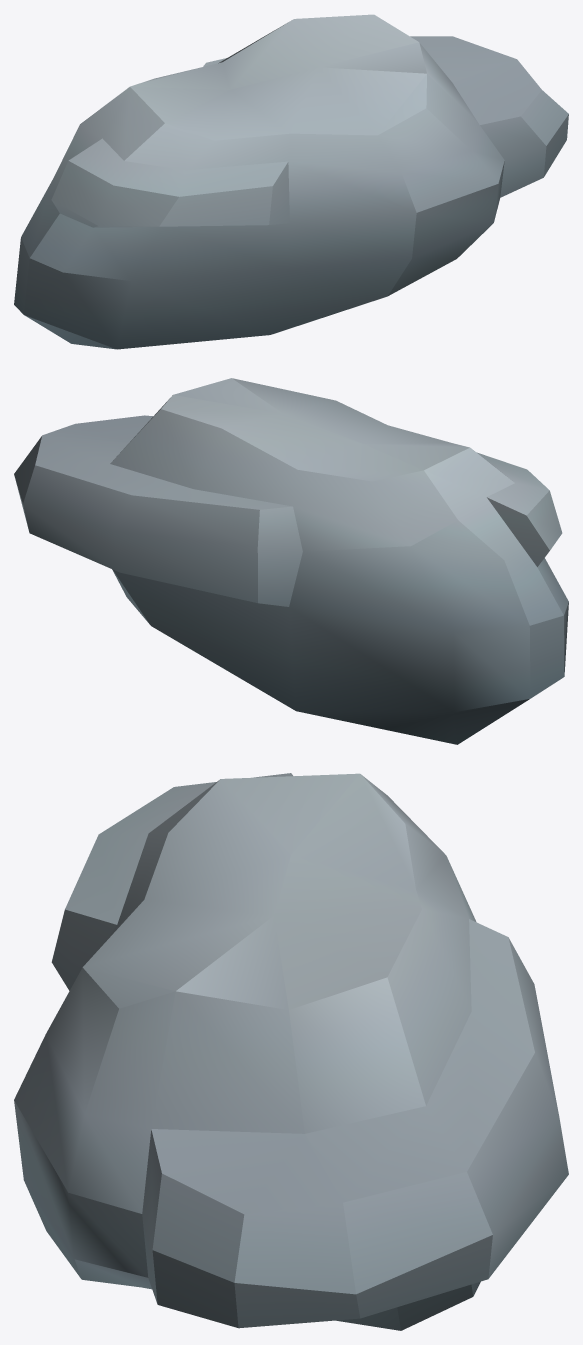
Rendered from Asset_RockA.glb.
The picture shows the model from 3 angles, top to bottom: view 1: azimuth 30°, elevation 25°; view 2: azimuth 150°, elevation 25°; view 3: azimuth 270°, elevation 25°; orthographic projection. The views are drawn at different scales.
Parts seen in each view (by area): view 1: Mesh.109; view 2: Mesh.109; view 3: Mesh.109.
Part boxes in pixels (bbox=[...]): Mesh.109: bbox=[14, 14, 568, 349]; Mesh.109: bbox=[14, 378, 568, 744]; Mesh.109: bbox=[14, 773, 568, 1330].
Size of what is drawn, in the model's own units: 1.61 by 0.7382 by 0.8491.
1 material, 1 textured.
